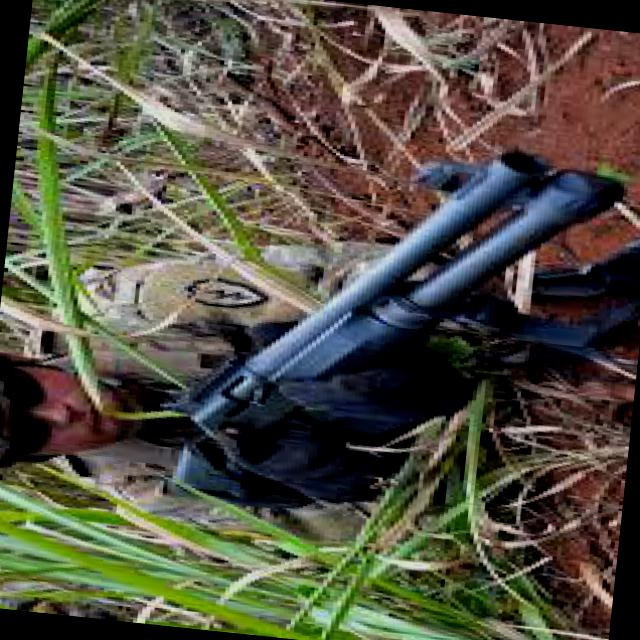long weapon: (117, 123, 640, 544)
